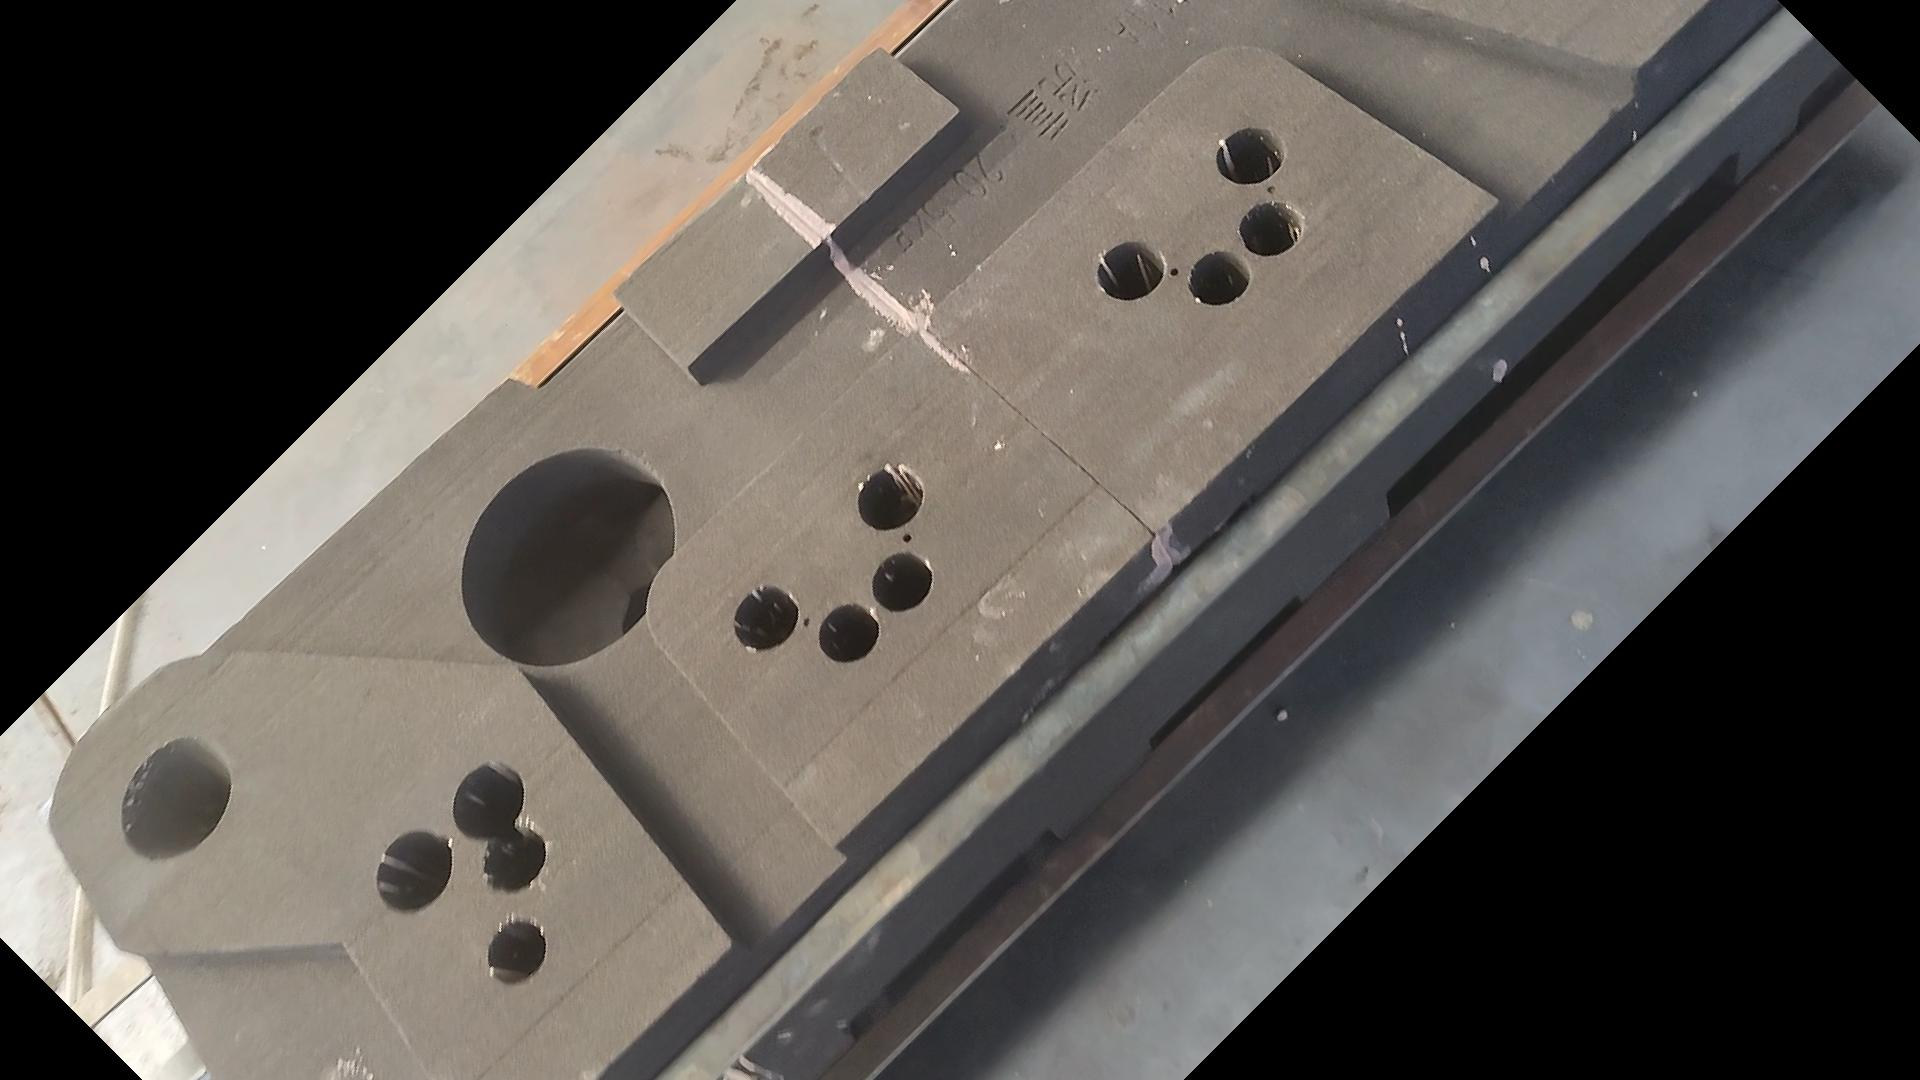pouring hole: (120, 736, 232, 862)
